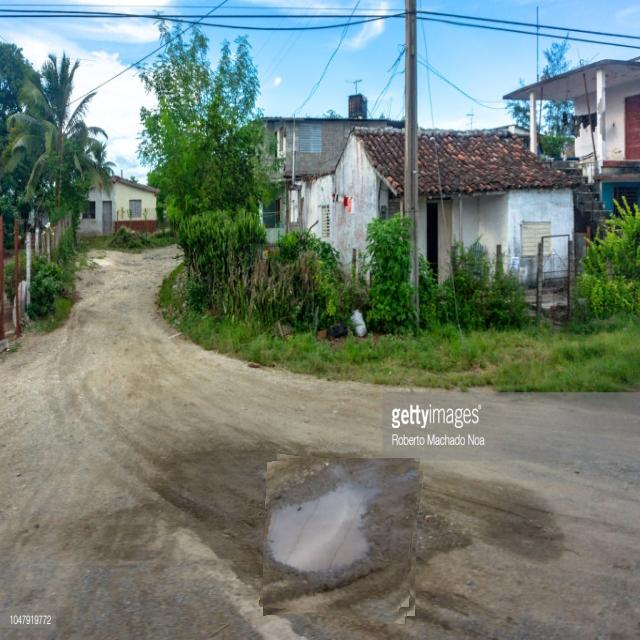Pothole: (263, 458, 420, 620)
